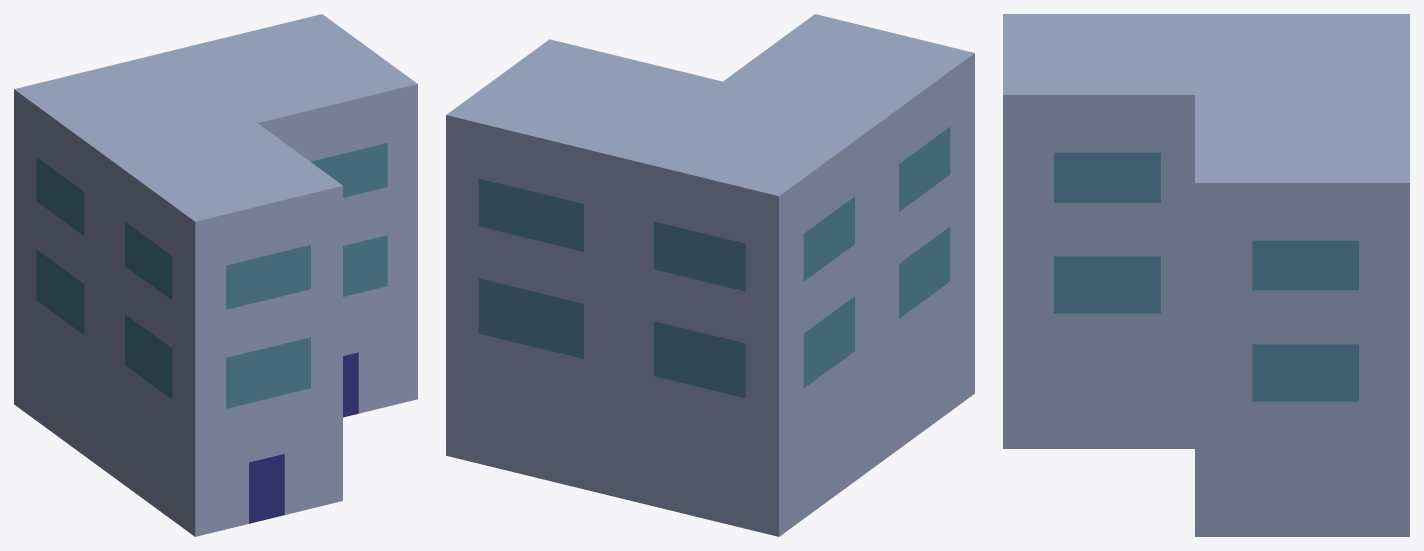
The model's file is Edificio.fbx.
The picture shows the model from 3 angles, left to right: view 1: azimuth 30°, elevation 25°; view 2: azimuth 150°, elevation 25°; view 3: azimuth 270°, elevation 25°; orthographic projection. The views are drawn at different scales.
Visible parts, largest first — view 1: Edificio; view 2: Edificio; view 3: Edificio.
Part boxes in pixels (bbox=[...]): Edificio: bbox=[14, 14, 417, 536]; Edificio: bbox=[446, 14, 974, 536]; Edificio: bbox=[1003, 14, 1409, 536].
Bounding box in the file's own units: 34.29 × 33.52 × 34.91.
